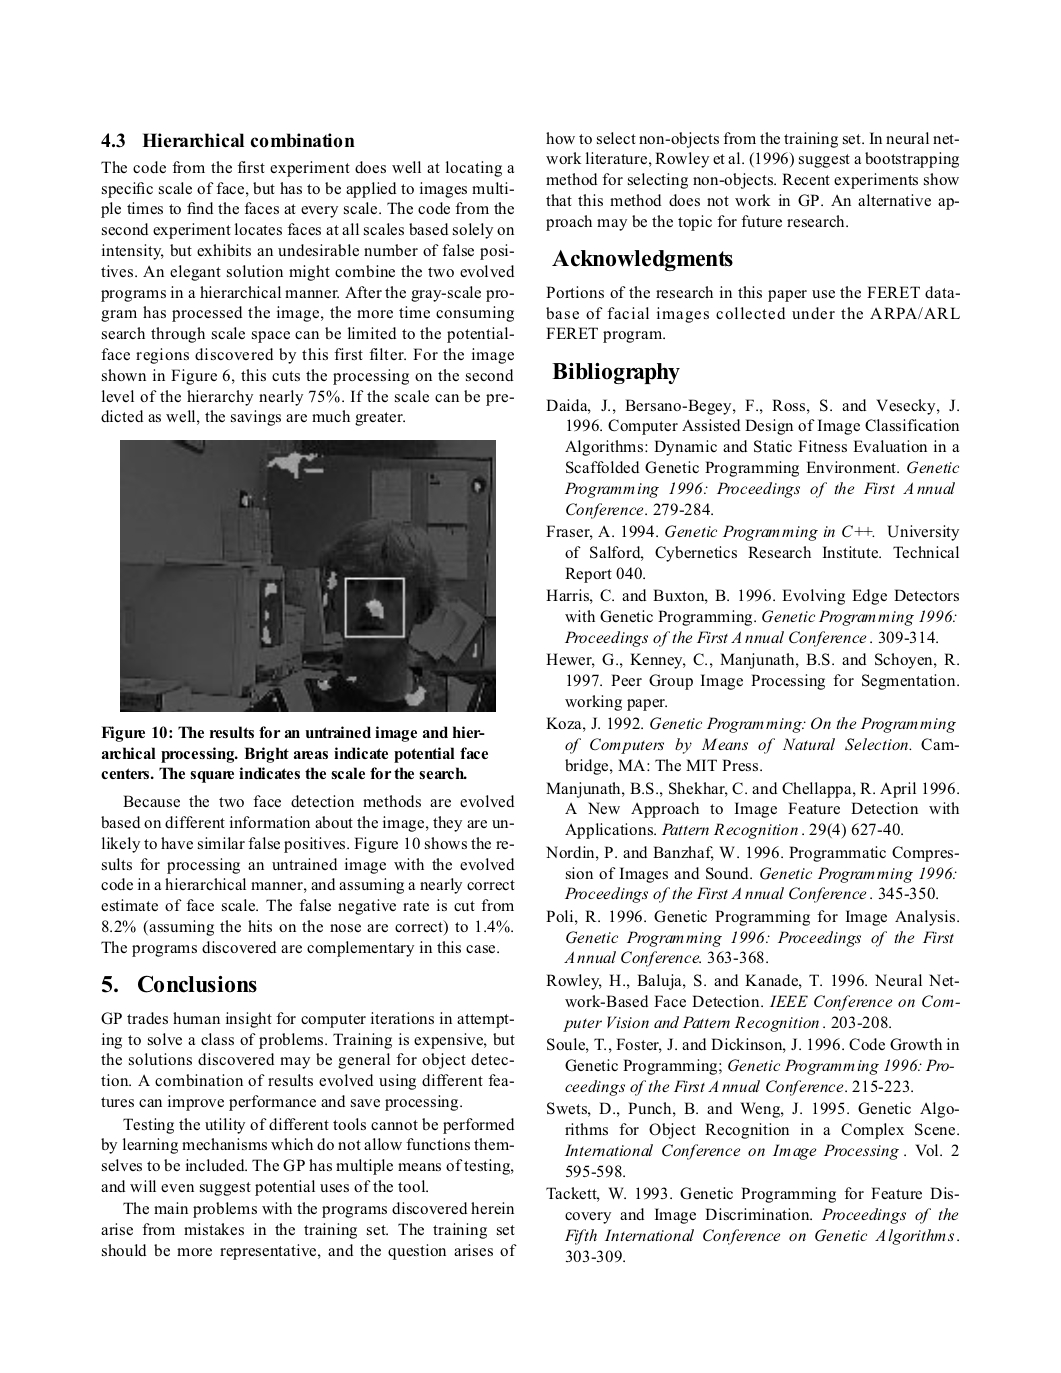figure: (120, 439, 495, 712)
